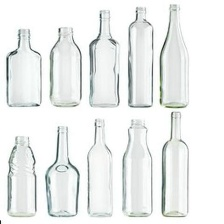bottle: (85, 5, 124, 109), (41, 120, 81, 218), (158, 1, 193, 110), (3, 27, 46, 111), (159, 110, 192, 219), (84, 115, 119, 217), (120, 117, 154, 220), (124, 3, 157, 109), (47, 23, 84, 109), (3, 130, 38, 218)
